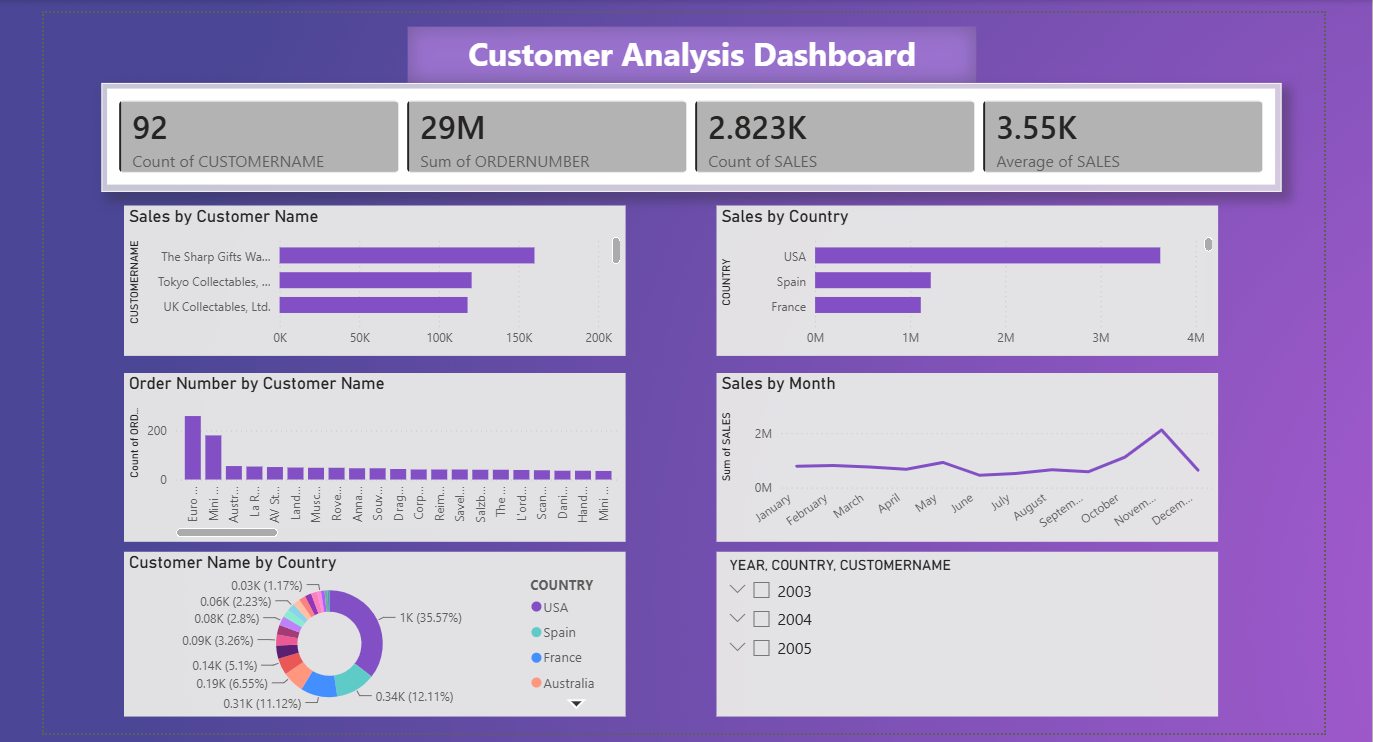

The page's visual inventory and layout, read from the dashboard file:
{"tool":"powerbi","page":{"name":"Page 3","canvas":[1280,720],"ordinal":2},"visuals":[{"type":"textbox","box":[363.2,13.5,568.6,56.3],"z":0},{"type":"cardVisual","fields":{"Data":["Count(sales_data_sample.CUSTOMERNAME)","Sum(sales_data_sample.ORDERNUMBER)","CountNonNull(sales_data_sample.SALES)","Avg(sales_data_sample.SALES)1"]},"box":[57.5,69.7,1180,108.8],"z":1000},{"type":"clusteredBarChart","title":" Sales by Customer Name","fields":{"Category":["sales_data_sample.CUSTOMERNAME"],"Y":["Sum(sales_data_sample.SALES)"]},"box":[79.5,192,501.4,150.4],"z":2000},{"type":"barChart","title":"Sales by Country","fields":{"Category":["sales_data_sample.COUNTRY"],"Y":["Sum(sales_data_sample.SALES)"]},"box":[672.6,192,501.4,150.4],"z":3000},{"type":"columnChart","title":" Order Number by Customer Name","fields":{"Y":["CountNonNull(sales_data_sample.ORDERNUMBER)"],"Category":["sales_data_sample.CUSTOMERNAME"]},"box":[79.5,359.5,501.4,168.8],"z":4000},{"type":"lineChart","title":"Sales by Month","fields":{"Category":["sales_data_sample.ORDERDATE.Variation.Date Hierarchy.Month"],"Y":["Sum(sales_data_sample.SALES)"]},"box":[672.6,359.5,501.4,168.8],"z":5000},{"type":"donutChart","title":" Customer Name by Country","fields":{"Y":["CountNonNull(sales_data_sample.CUSTOMERNAME)"],"Category":["sales_data_sample.COUNTRY"]},"box":[79.5,539.3,501.4,165.1],"z":6000},{"type":"slicer","fields":{"Values":["sales_data_sample.YEAR_ID","sales_data_sample.COUNTRY","sales_data_sample.CUSTOMERNAME"]},"box":[672.6,539.3,501.4,165.1],"z":7000}]}

Visuals, with their boxes in screenshot pixels (x1, y1, x2, y2):
textbox: box(407, 31, 966, 86)
cardVisual - Count(sales_data_sample.CUSTOMERNAME) x Sum(sales_data_sample.ORDERNUMBER): box(107, 86, 1266, 193)
" Sales by Customer Name" clusteredBarChart: box(128, 207, 621, 354)
"Sales by Country" barChart: box(711, 207, 1204, 354)
" Order Number by Customer Name" columnChart: box(128, 371, 621, 537)
"Sales by Month" lineChart: box(711, 371, 1204, 537)
" Customer Name by Country" donutChart: box(128, 548, 621, 710)
slicer - sales_data_sample.YEAR_ID x sales_data_sample.COUNTRY: box(711, 548, 1204, 710)
